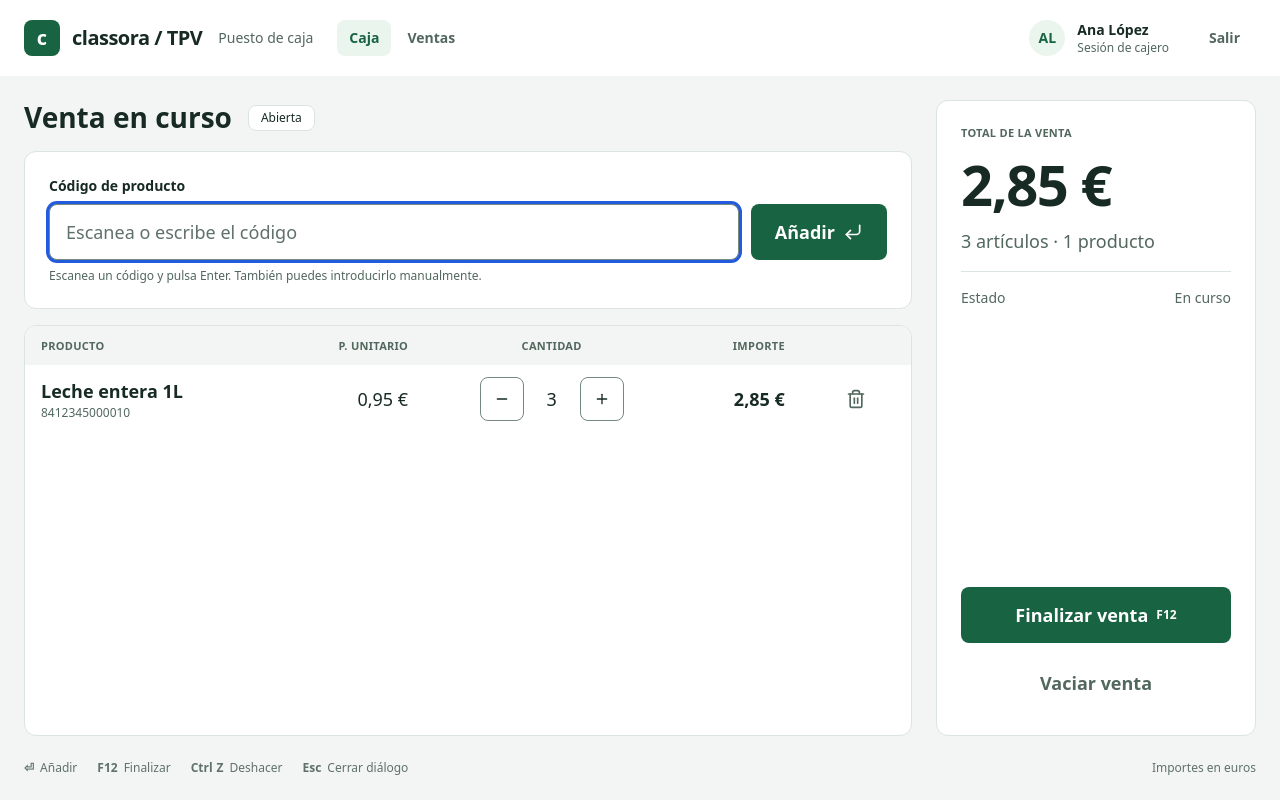
Scenario: Checkout: Screen Integration › I-10: should empty the sale after the destructive confirmation
The image size is (1280, 800).
Expected: the field labelled "Código de producto" is enabled, [49, 204, 739, 260]
What coordinates should you click on to do the following:
click the button "Vaciar venta"
I would click on:
 (1096, 683)
Its box is [961, 655, 1231, 711].
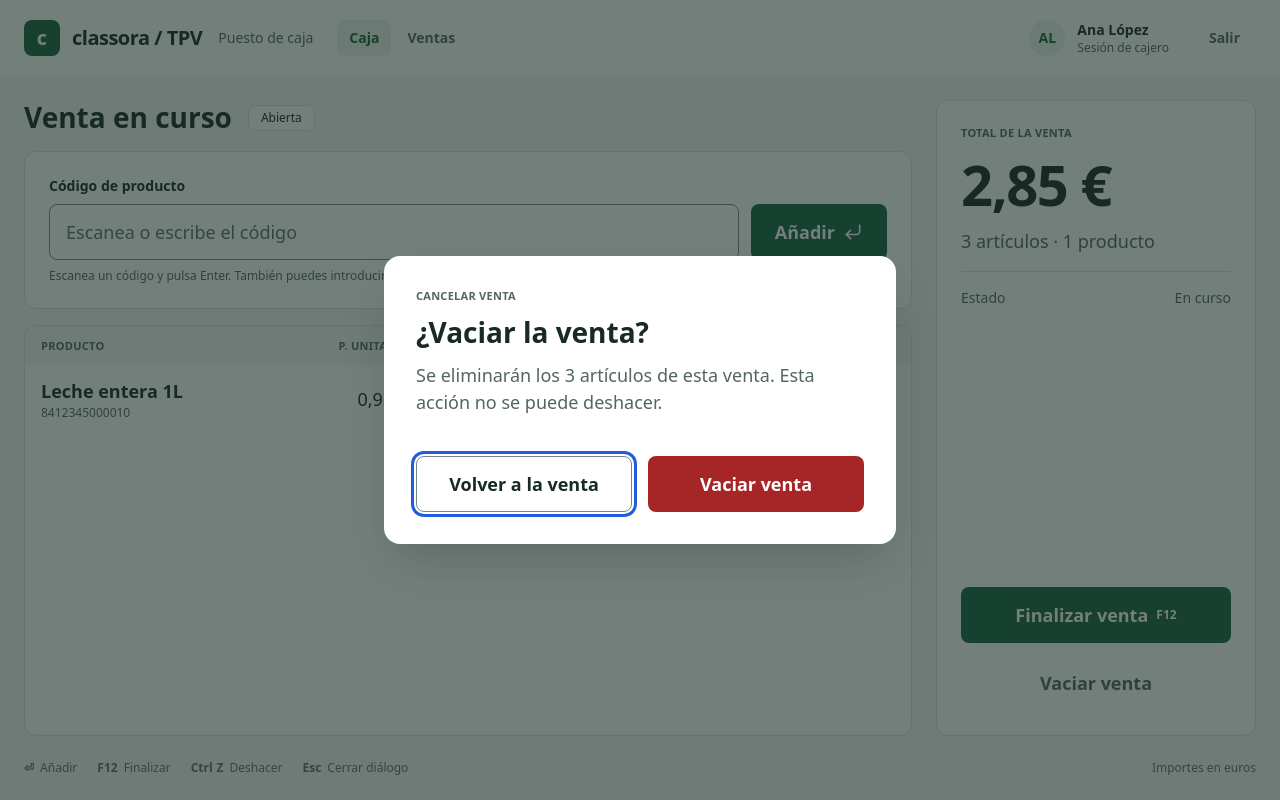
Expected: the dialog "¿Vaciar la venta?" shows "Se eliminarán los 3 artículos de esta venta.", [416, 363, 815, 414]
What coordinates should you click on to do the following:
click the button "Vaciar venta"
I would click on:
 (756, 484)
Its box is [648, 456, 864, 512].
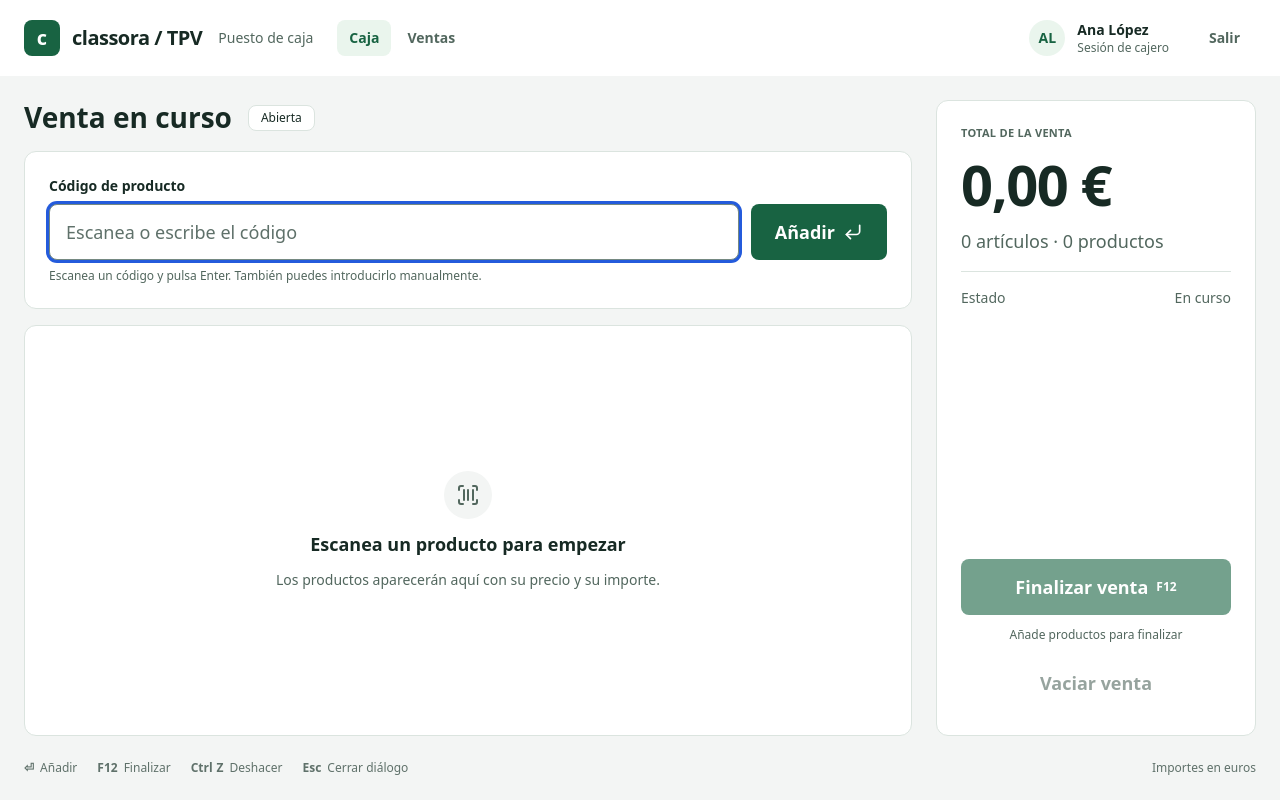
Expected: the text "Escanea un producto para empezar" is shown, [310, 531, 626, 558]
Expected: the dialog is gone
